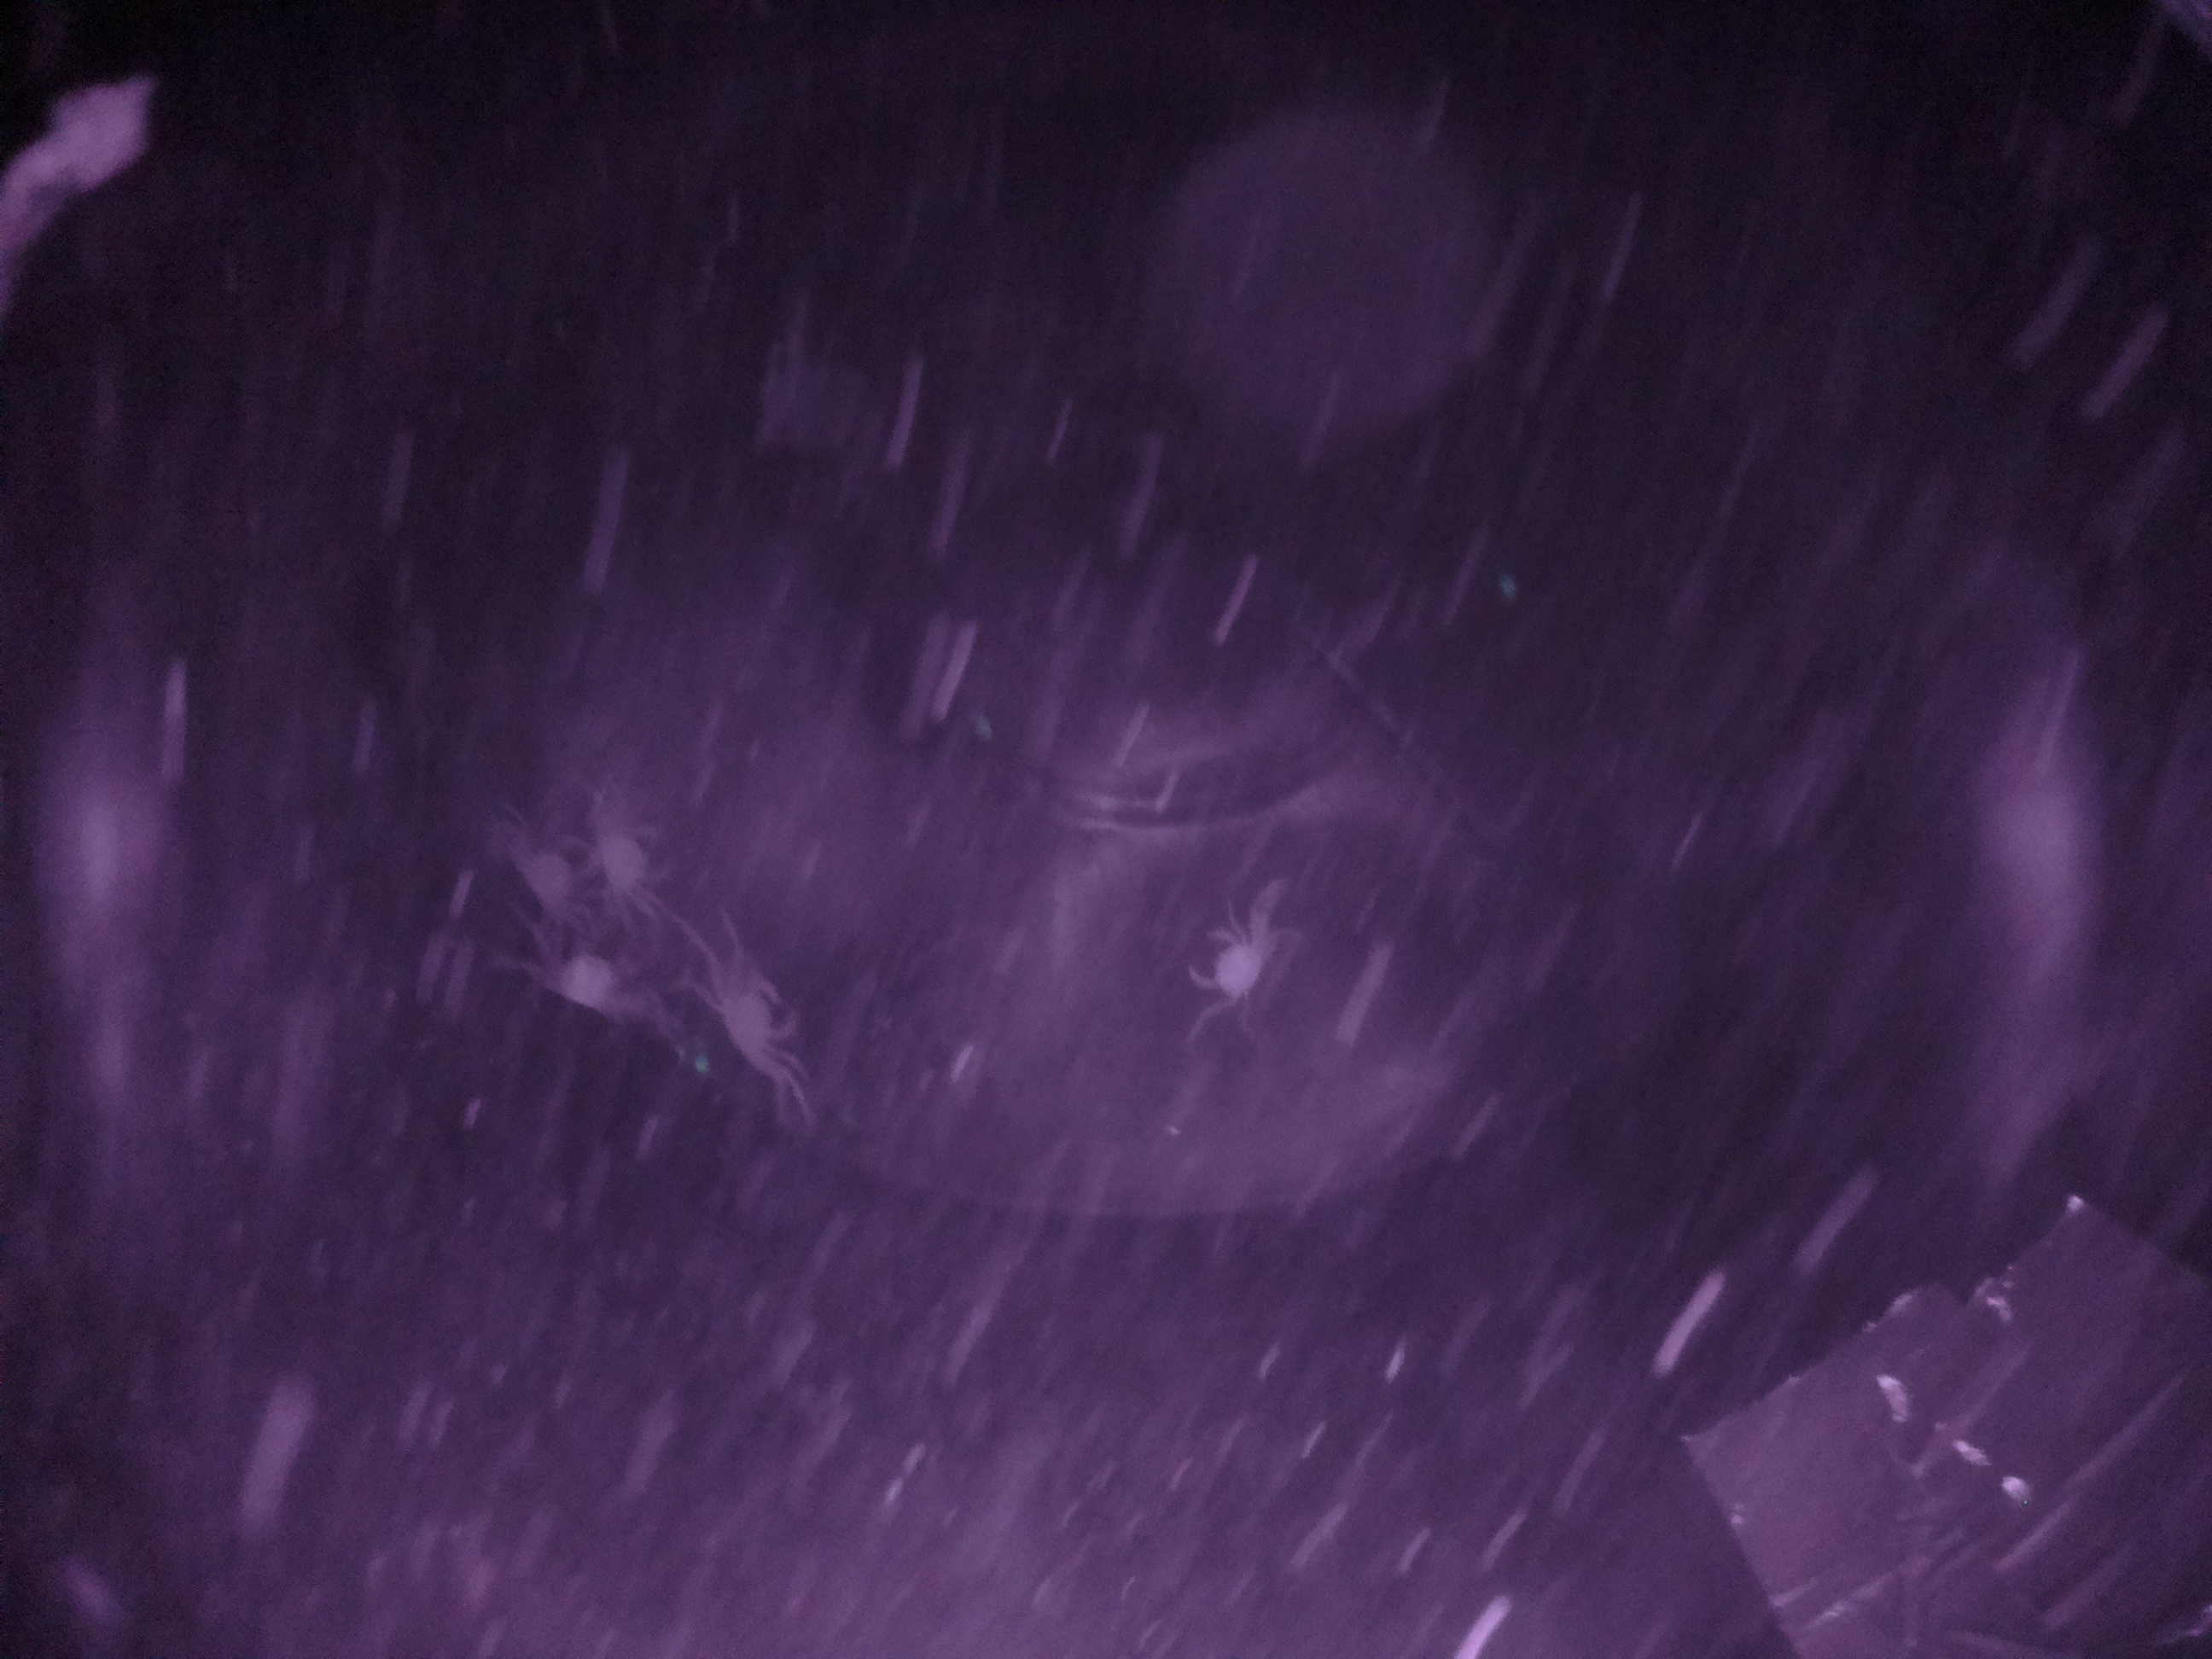Crab: (693, 946, 826, 1098), (1176, 899, 1312, 1032)
